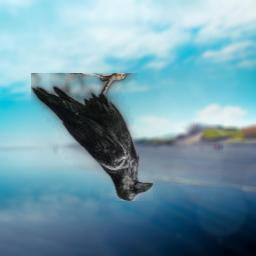Crow: (31, 73, 153, 201)
